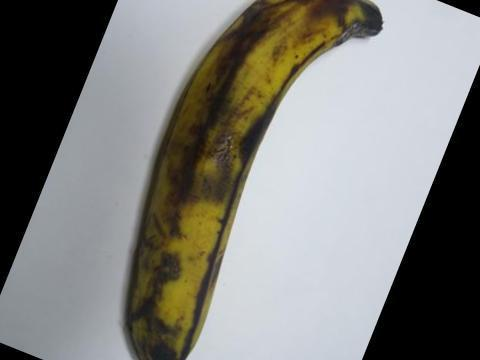overripe: (107, 0, 390, 359)
